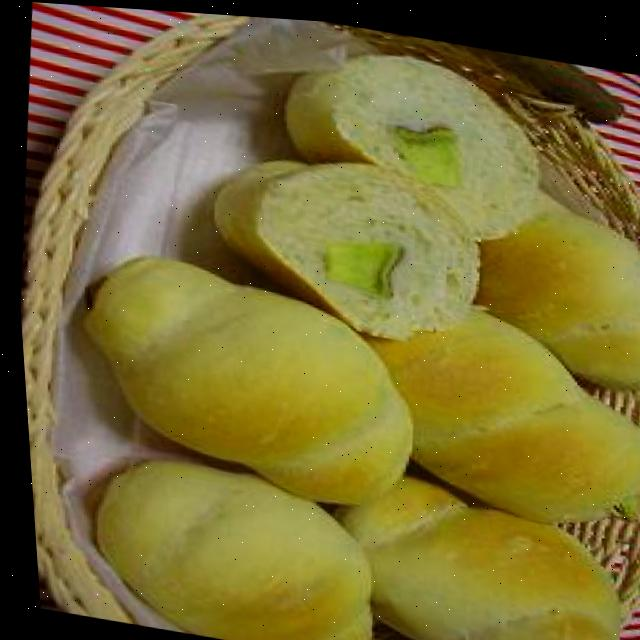面包点心: (53, 243, 640, 640)
